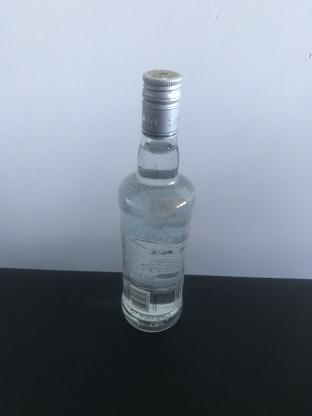nakretka: (140, 67, 183, 141)
